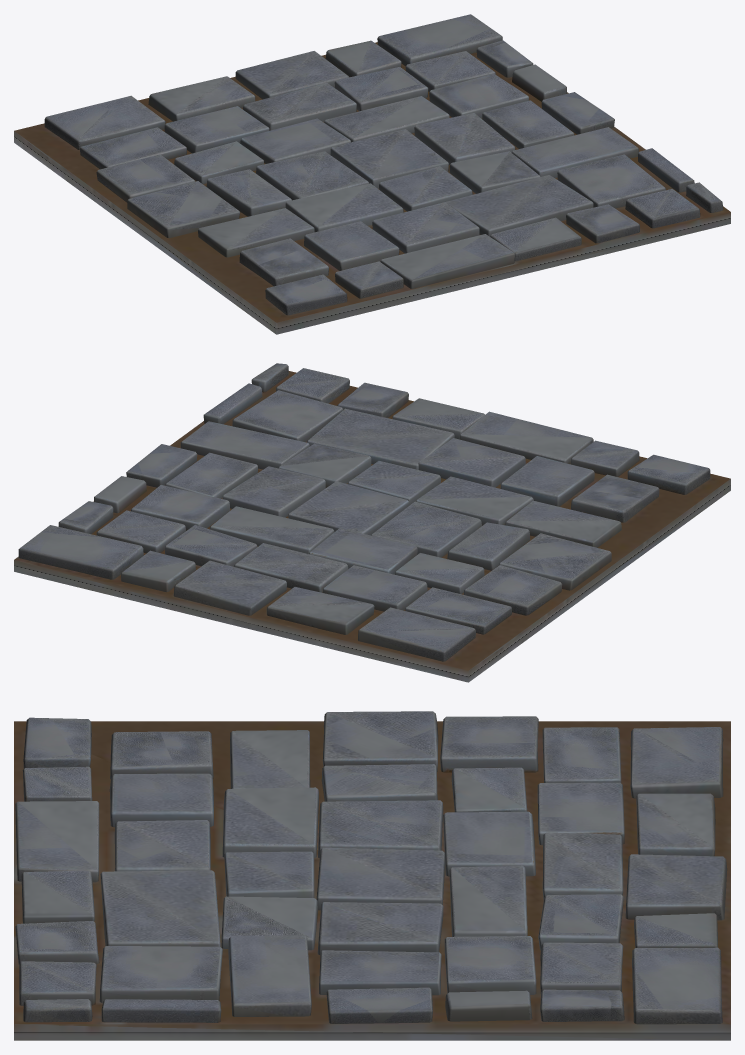
Rendered from road_cobble.glb.
3 renders of one model, top to bottom at view 1: azimuth 30°, elevation 25°; view 2: azimuth 150°, elevation 25°; view 3: azimuth 270°, elevation 25°, orthographic. The views are drawn at different scales.
Parts seen in each view (by area): view 1: road_cobble; view 2: road_cobble; view 3: road_cobble.
Part boxes in pixels (box(x1,y1,x2,y2)): road_cobble: box(14, 14, 730, 334); road_cobble: box(14, 363, 730, 682); road_cobble: box(14, 711, 730, 1040).
Bounding box in the file's own units: 4 × 0.1976 × 4.
Materials: 1 (1 with a texture image).
